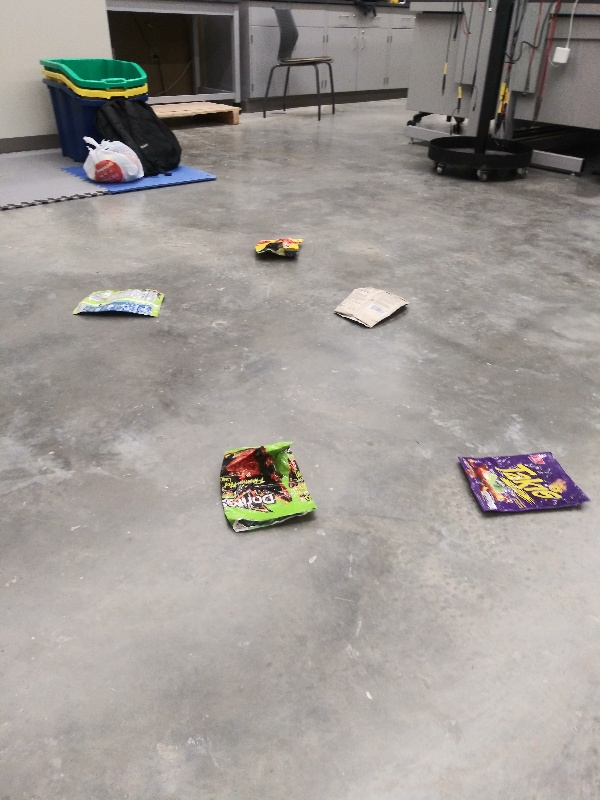bag: (218, 436, 320, 539), (451, 449, 591, 513), (330, 285, 414, 329), (73, 286, 171, 320), (255, 233, 306, 261)
